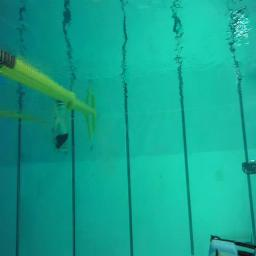Full: (208, 234, 256, 256)
Side: (242, 160, 256, 176)
